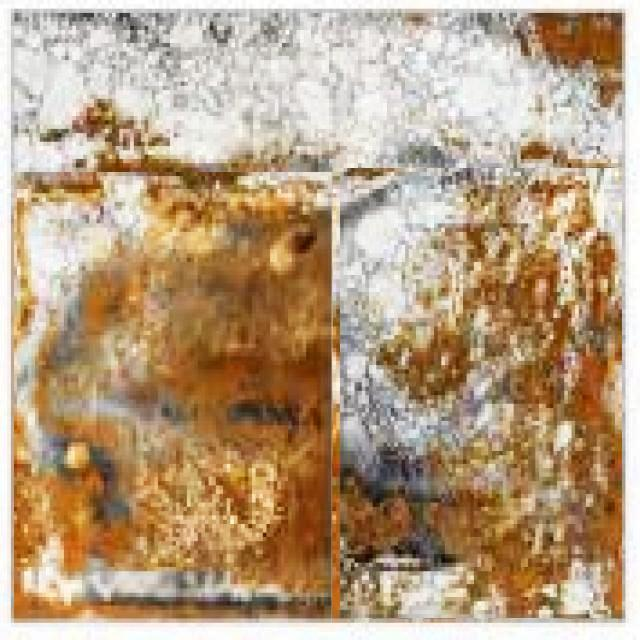Corrosion: (68, 174, 331, 617), (472, 168, 624, 571), (375, 254, 565, 513), (341, 484, 623, 619), (13, 340, 75, 619), (536, 12, 624, 107), (32, 114, 180, 152), (12, 198, 33, 345), (15, 172, 103, 205)
